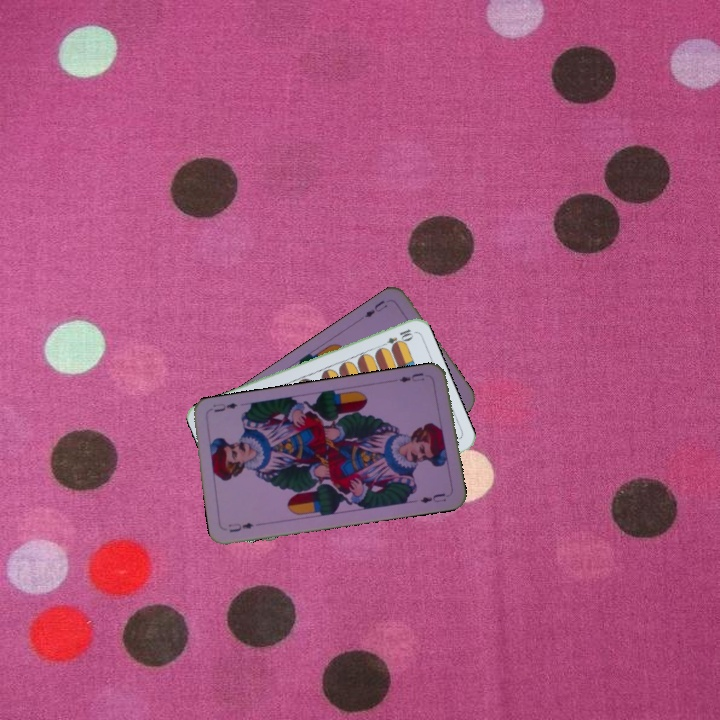E10: (376, 325, 416, 351)
EU: (361, 296, 390, 320), (395, 369, 427, 385), (225, 519, 256, 535)
